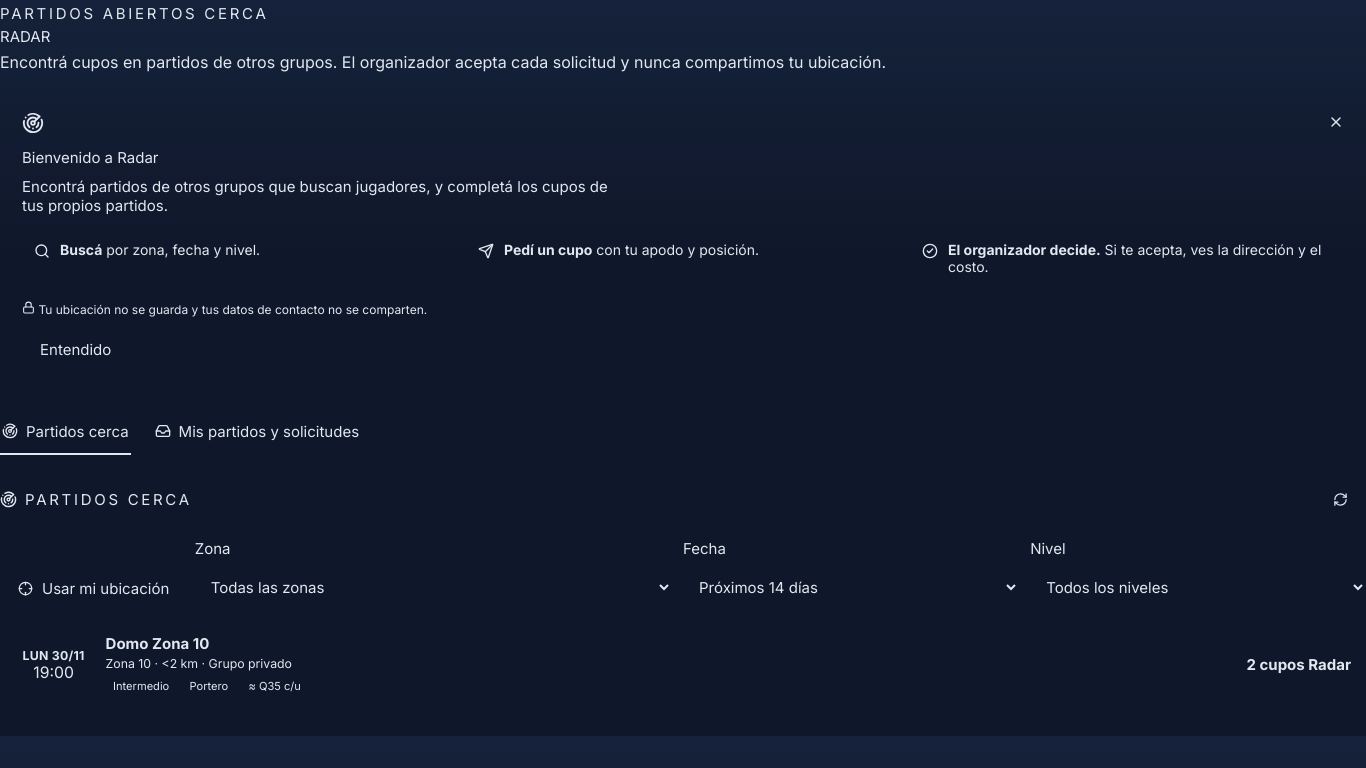
Test: Radar page › lists nearby matches without exact location and requests a spot
Later steps or results of the test are not shown.
Click the button with aria-label "Ver partido del lun 30/11 · 19:00 en Domo Zona 10" at point(54, 655), box left=0, top=621, right=1365, bottom=708
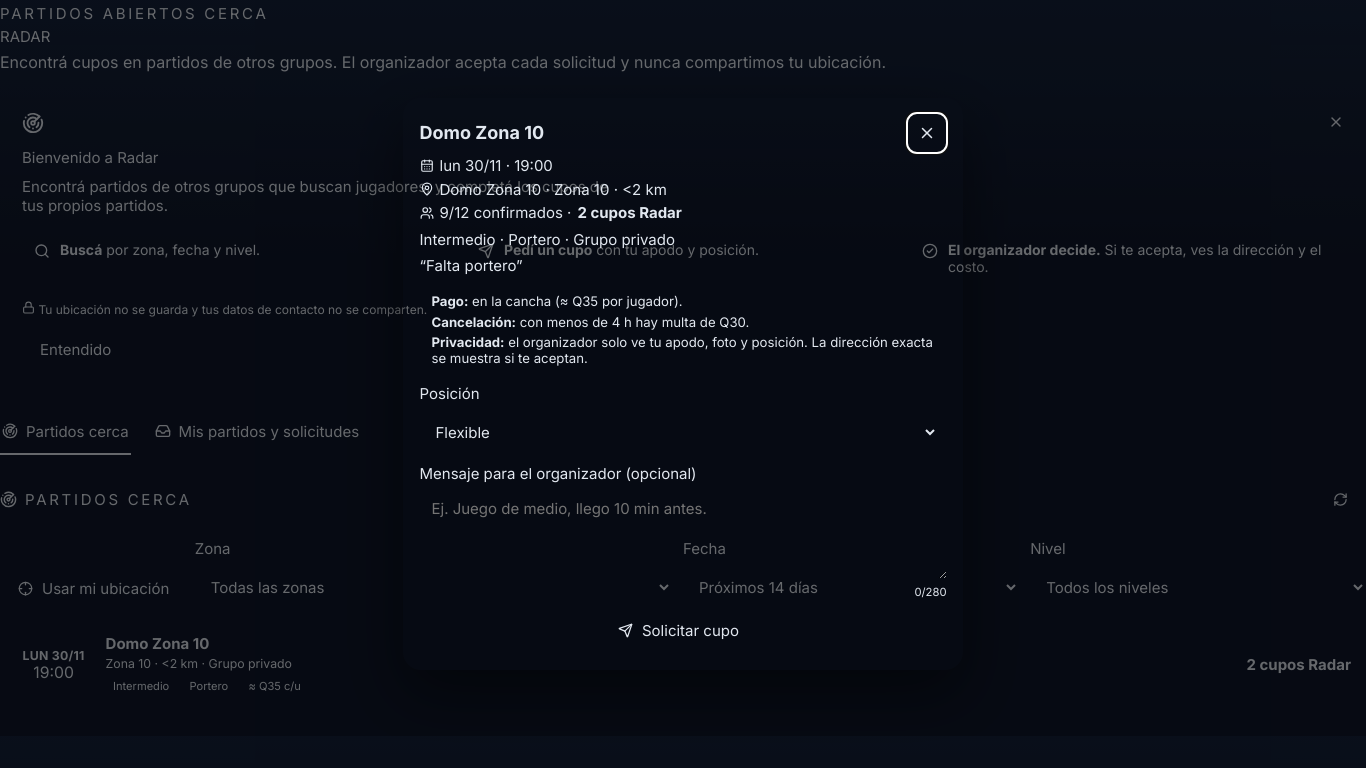
expect the text "Cancelación: con menos de 4 h hay multa de Q30." is shown: met, box left=432, top=314, right=749, bottom=330
